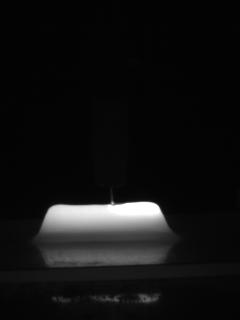tip_wire_left: (95, 181, 114, 205)
tip_wire_right: (111, 181, 126, 205)
